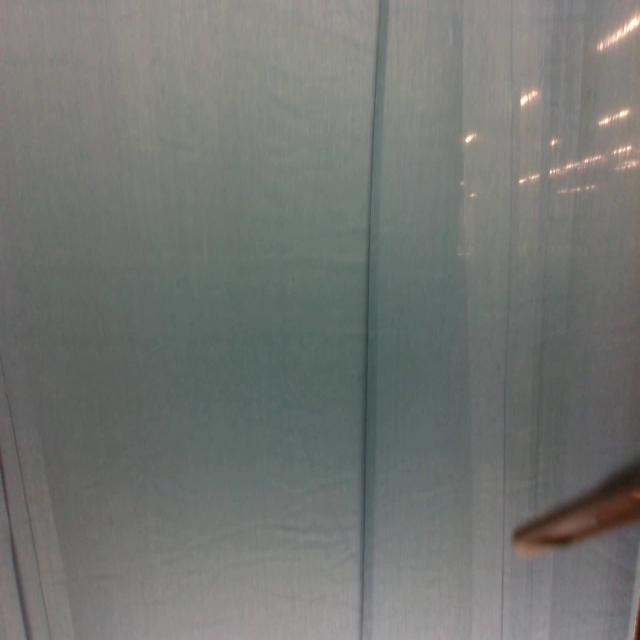crease: (0, 353, 75, 637), (359, 0, 392, 640), (498, 0, 514, 640)
